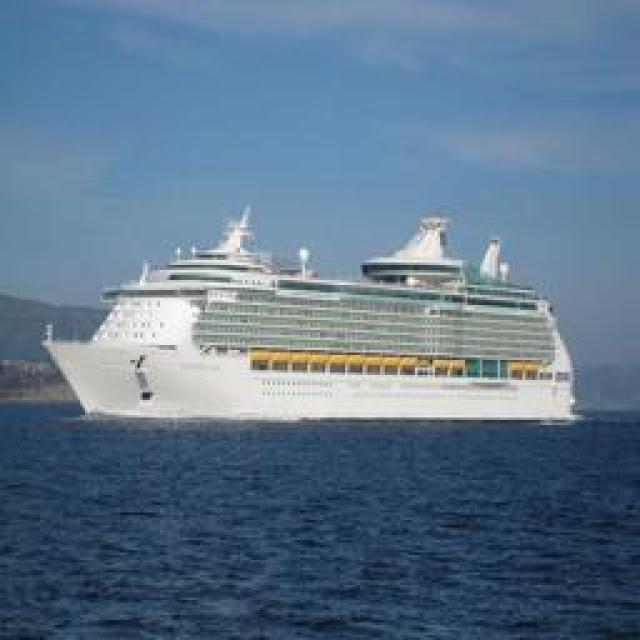CIV_Ship: (34, 202, 588, 426)
